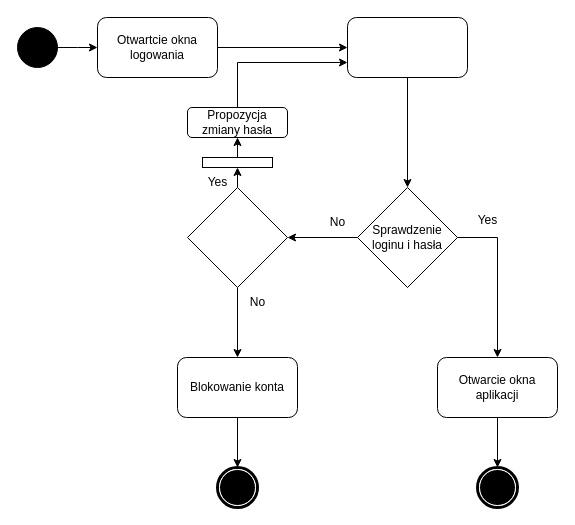
The diagram is 575 pixels wide and 525 high, and some of its shapes have lost their labels. Each missing label, with the centre of its shape:
"Liczba logowań < 3" belongs at (237,237).
"Wpisanie loginu i hasła" belongs at (407,47).
